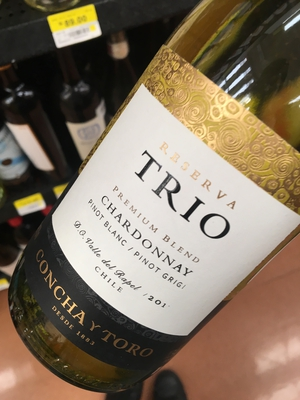trio chardonnay: (18, 49, 299, 378)
